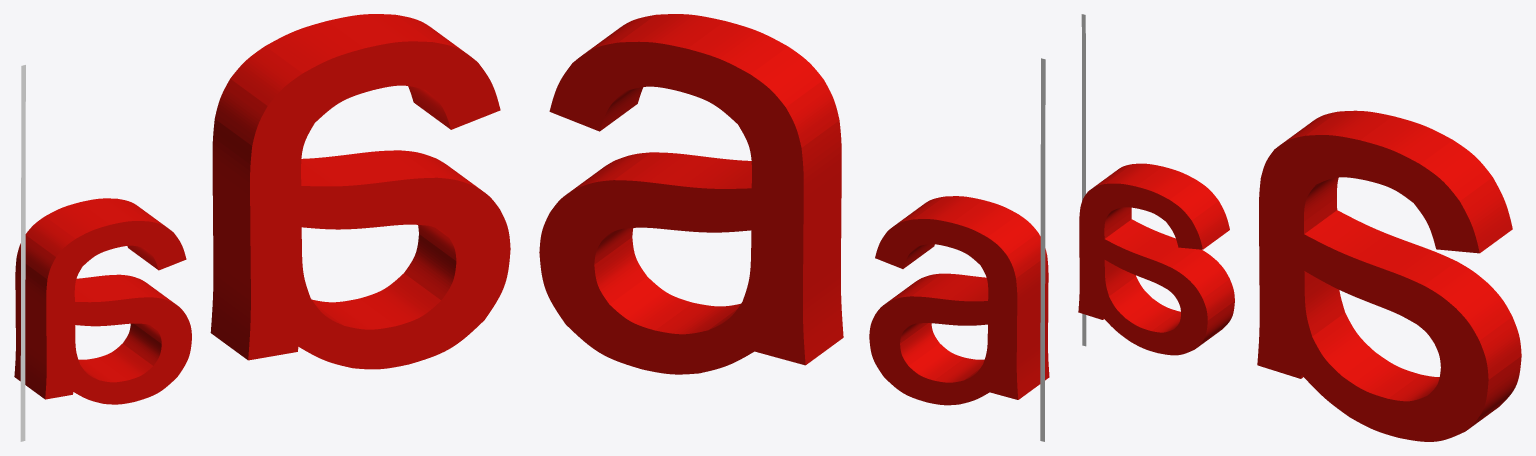
3 renders of one model, left to right at view 1: azimuth 30°, elevation 25°; view 2: azimuth 150°, elevation 25°; view 3: azimuth 330°, elevation 25°, orthographic. The views are drawn at different scales.
Parts seen in each view (by area): view 1: Uploads Files 1950256 A.001, Uploads Files 1950256 A, Плоскость; view 2: Uploads Files 1950256 A.001, Uploads Files 1950256 A, Плоскость; view 3: Uploads Files 1950256 A.001, Uploads Files 1950256 A, Плоскость.
Part boxes in pixels (x1,y1,x2,y2): Uploads Files 1950256 A.001: (210,14,510,369); Uploads Files 1950256 A: (14,198,191,404); Плоскость: (20,65,25,441); Uploads Files 1950256 A.001: (539,14,843,374); Uploads Files 1950256 A: (869,196,1049,405); Плоскость: (1040,58,1045,441); Uploads Files 1950256 A.001: (1257,110,1521,441); Uploads Files 1950256 A: (1078,163,1234,355); Плоскость: (1081,14,1086,346).
Bounding box in the file's own units: 12.39 × 9.46 × 1.69.
